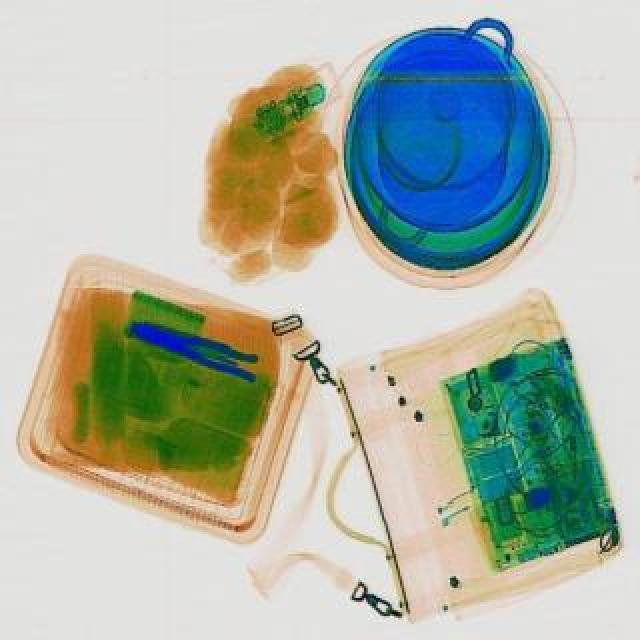wrench: (126, 310, 266, 384)
